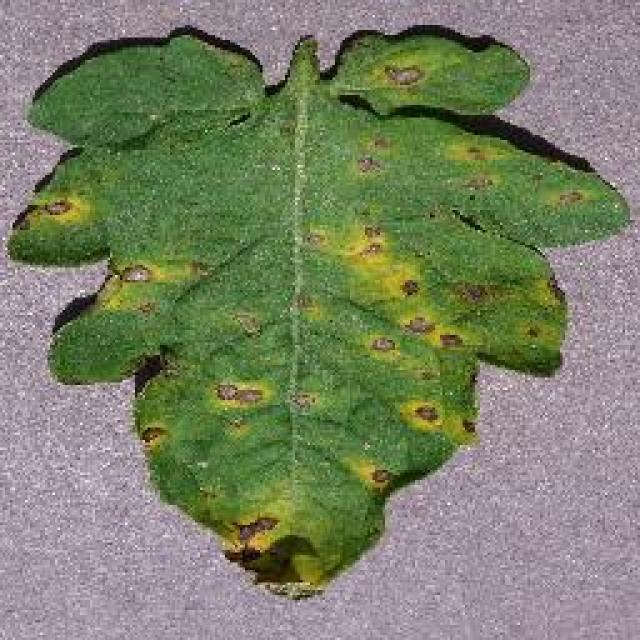Tomato___Septoria_leaf_spot: (8, 25, 628, 598)
